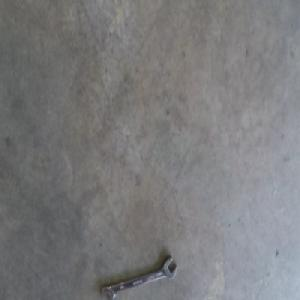Wrench: (101, 255, 177, 299)
